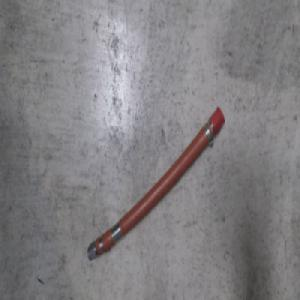Hose: (85, 104, 225, 263)
